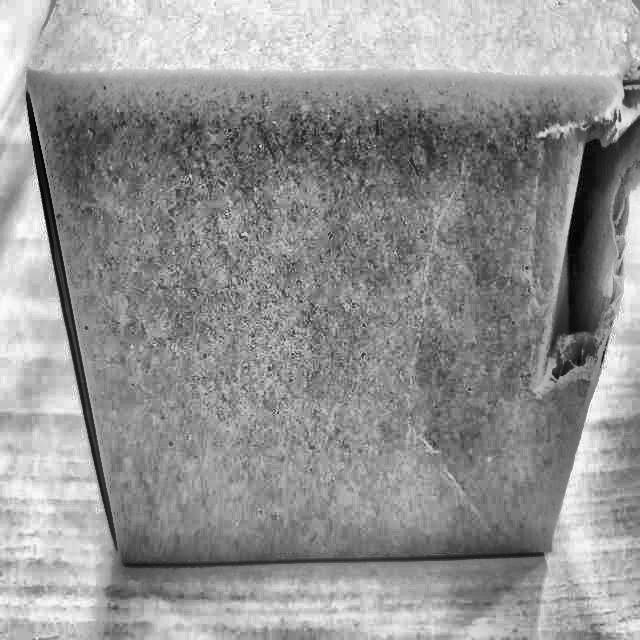box: (15, 0, 600, 573)
hole: (546, 64, 640, 366)
